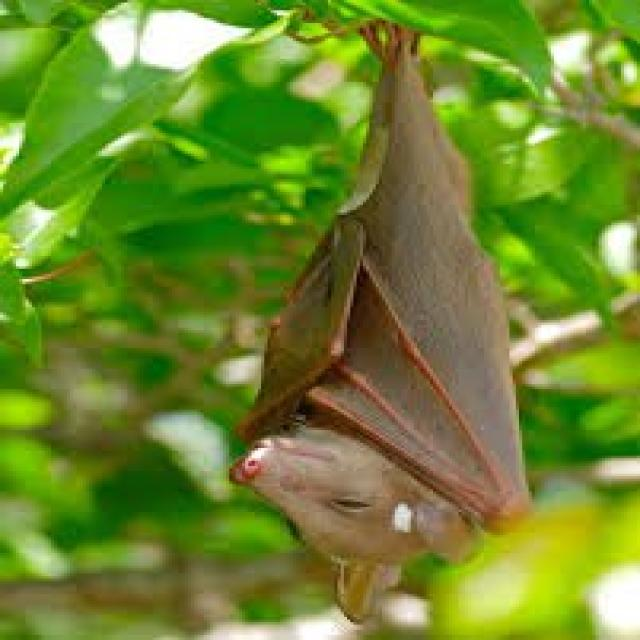Bat: (241, 28, 544, 622)
